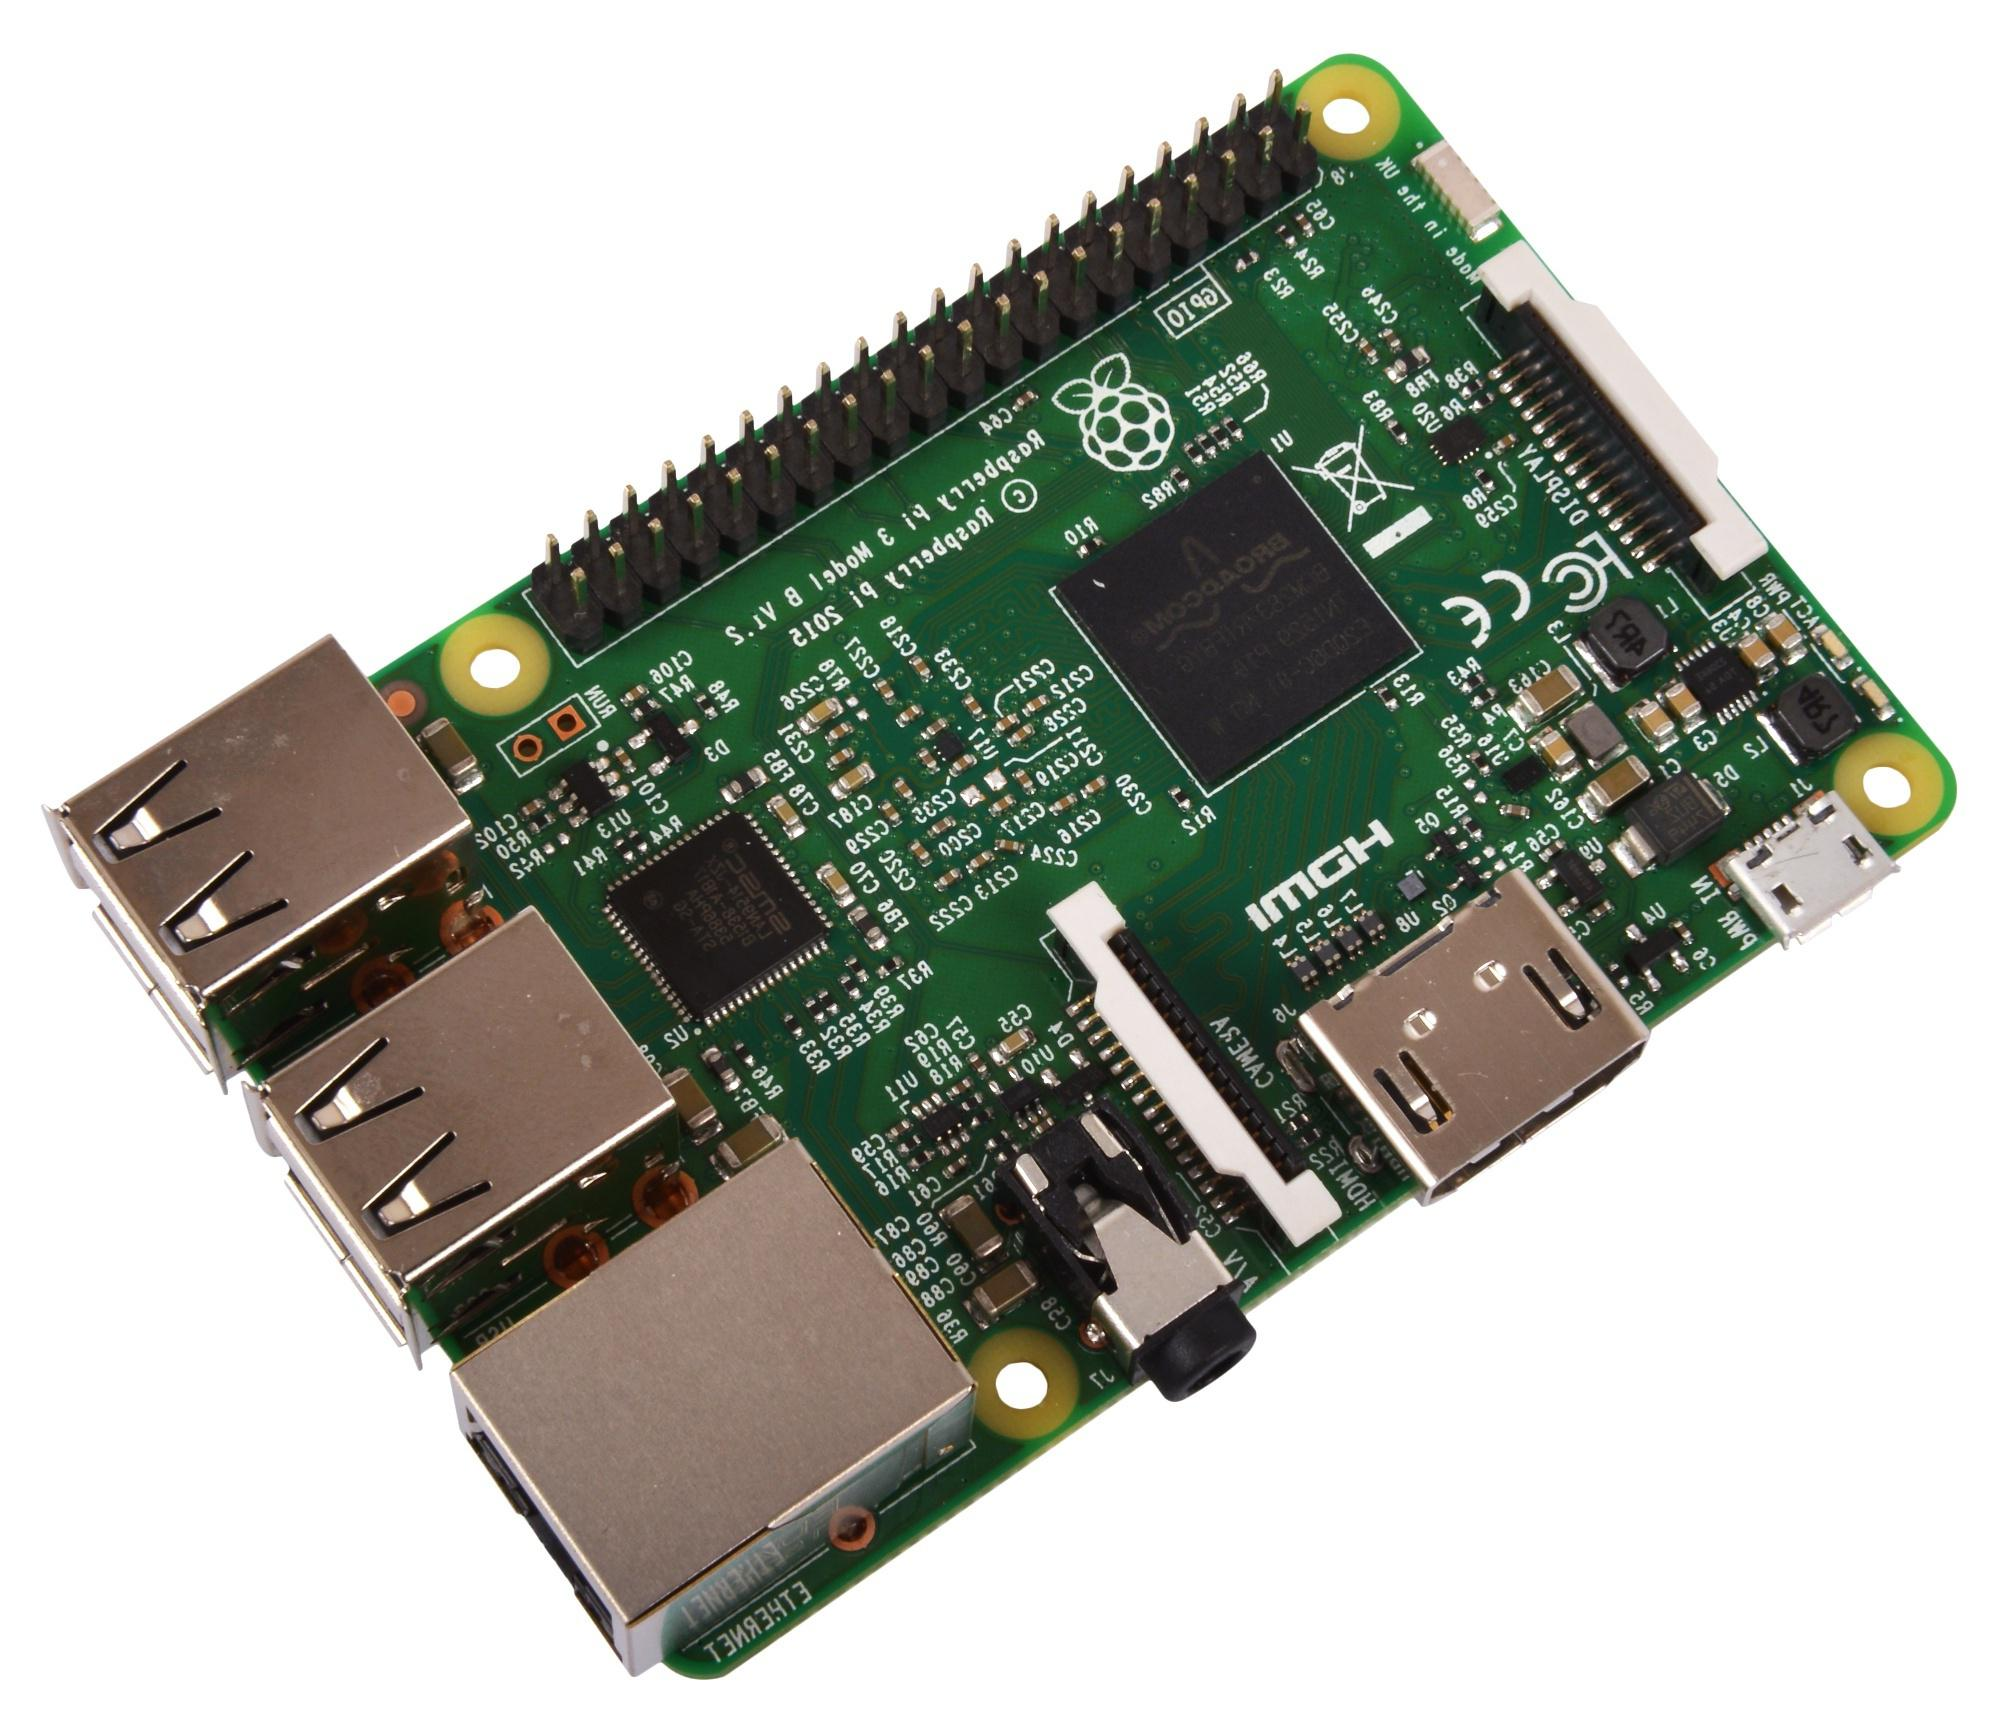audiojack: (1007, 1118, 1264, 1419)
bchi: (1041, 442, 1405, 798)
ethernet: (476, 1140, 968, 1650)
gpio: (514, 73, 1325, 655)
usb: (252, 895, 677, 1357), (53, 624, 463, 1077)
